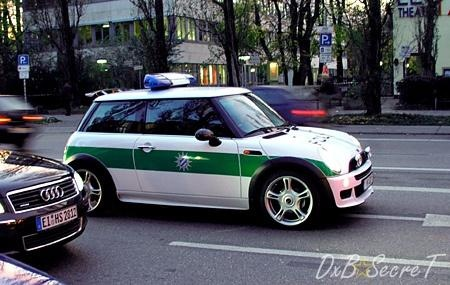car: (63, 72, 376, 230), (1, 150, 89, 257)
